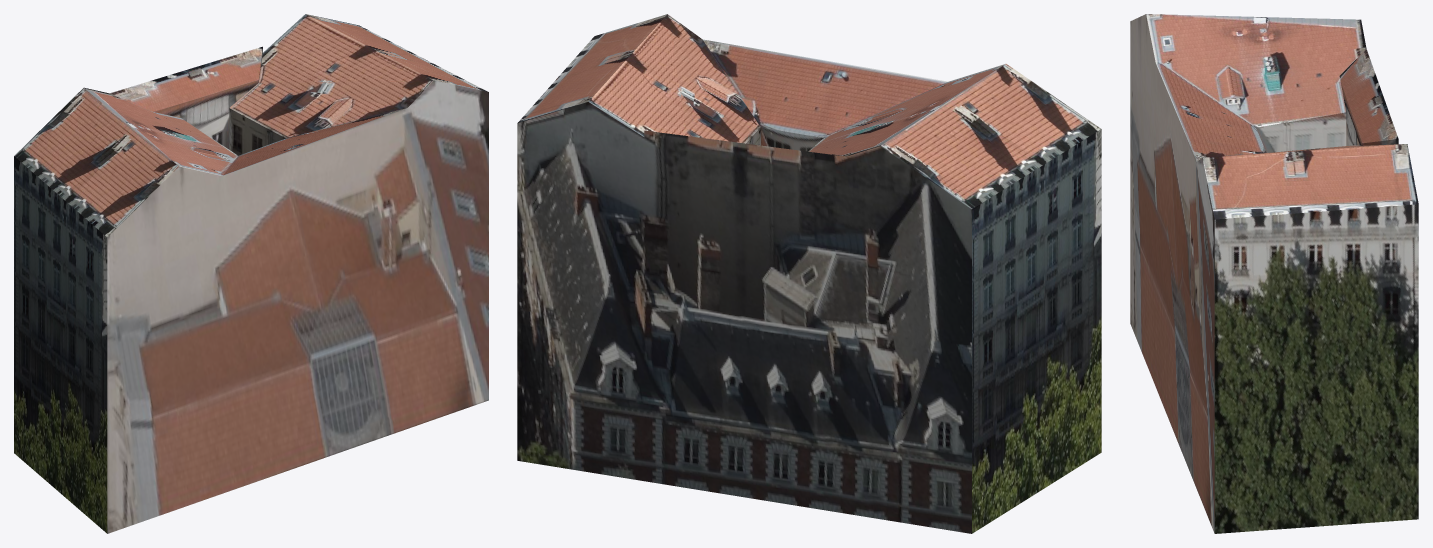
3 renders of one model, left to right at view 1: azimuth 30°, elevation 25°; view 2: azimuth 150°, elevation 25°; view 3: azimuth 270°, elevation 25°, orthographic. The views are drawn at different scales.
Visible parts, largest first — view 1: Z_UP; view 2: Z_UP; view 3: Z_UP.
Boxes of the visible parts, x1=… form: Z_UP: x1=14, y1=14, x2=488, y2=533; Z_UP: x1=517, y1=14, x2=1101, y2=533; Z_UP: x1=1130, y1=14, x2=1418, y2=533.
Bounding box in the file's own units: 35.23 × 27.25 × 20.41.
2 materials, 1 textured.
